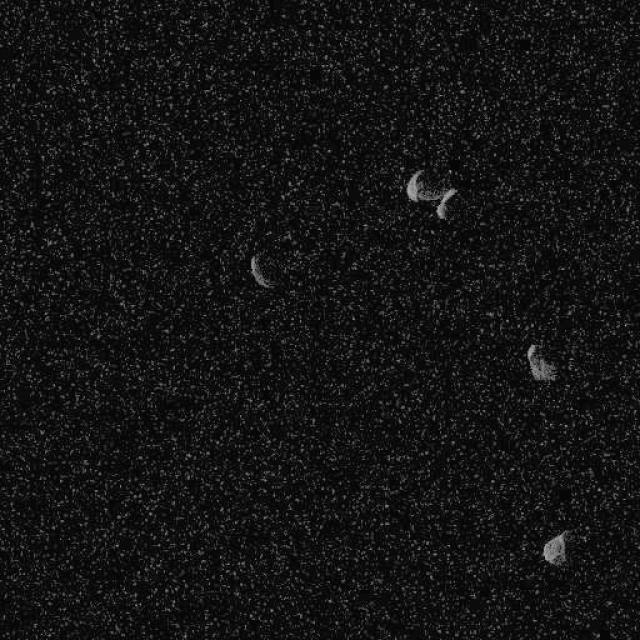D2: (405, 166, 457, 220), (525, 342, 557, 382), (249, 251, 279, 289), (541, 529, 569, 566)
